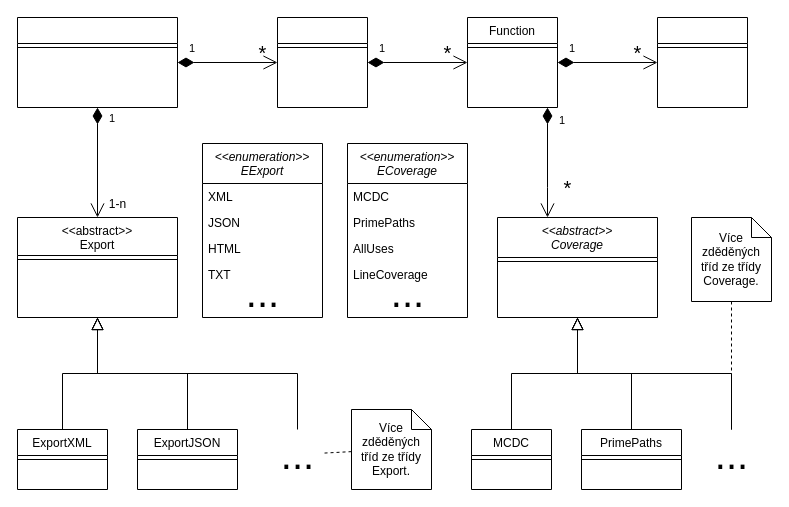
This 789x507 diagram has some shape labels left out. The shapes that lost their labels are listed below. From the top down, each one's centre as x and y in pixels, then its label:
the point at 97,62: TforcCovCoverage
the point at 322,62: Module
the point at 702,62: BasicBlock
